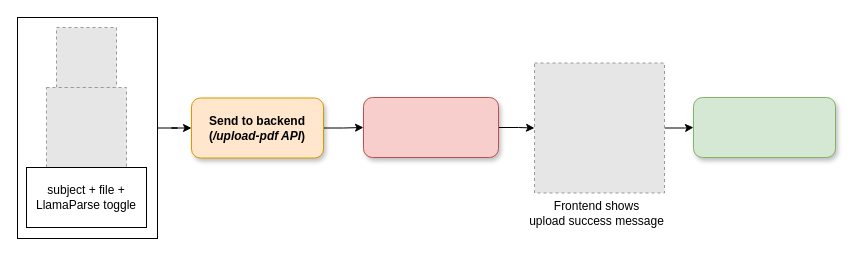
Image size: 859x256. Some labels were removed from this diagram. Grey dashed boxes stand in for pictures. Here are the shapes that lost their labels. From the top down, the centre of each, then its label:
(x=431, y=128): File Storage(Local /uploads folder with subject prefix)
(x=765, y=128): Ingestion Flow begins
